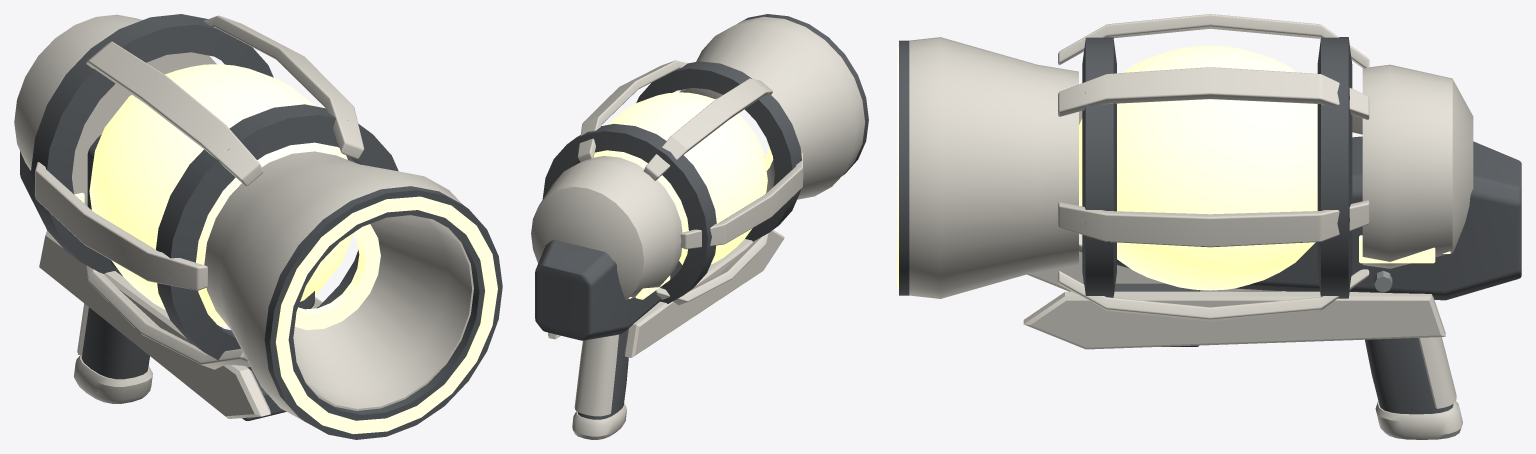
File: PulseLobber.fbx
3 renders of one model, left to right at view 1: azimuth 30°, elevation 25°; view 2: azimuth 150°, elevation 25°; view 3: azimuth 270°, elevation 25°, orthographic. The views are drawn at different scales.
Parts seen in each view (by area): view 1: Bell, OrbChamber, ChamberBand.001, ChamberBand, DarkMuzzle, BellEnergyLip, Cradle, RearBreech, ChamberRib.002, ChamberRib.003, ChamberRib.001, RecessedEmitter (+4 smaller); view 2: Bell, RearBreech, OrbChamber, Receiver, ChamberBand, ChamberBand.001, Cradle, ChamberRib.002, ChamberRib.003, GripPanel, ChamberRib.001, ChamberRib.004 (+3 smaller); view 3: Bell, OrbChamber, RearBreech, Cradle.001, Receiver, ChamberRib, ChamberRib.001, ChamberBand, ChamberBand.001, PalmGrip, ChamberRib.002, ChamberRib.005 (+6 smaller).
Part boxes in pixels (x1,y1,x2,y2): Bell: [204, 151, 473, 423]; OrbChamber: [89, 64, 351, 326]; ChamberBand.001: [156, 104, 398, 370]; ChamberBand: [31, 14, 273, 276]; DarkMuzzle: [264, 186, 502, 439]; BellEnergyLip: [275, 196, 497, 434]; Cradle: [39, 230, 270, 418]; RearBreech: [14, 14, 216, 205]; ChamberRib.002: [86, 41, 263, 185]; ChamberRib.003: [35, 162, 207, 290]; ChamberRib.001: [204, 15, 364, 158]; RecessedEmitter: [294, 224, 380, 329]; Bell: [679, 16, 864, 199]; RearBreech: [531, 156, 682, 299]; OrbChamber: [593, 92, 767, 264]; Receiver: [535, 240, 682, 340]; ChamberBand: [542, 124, 716, 303]; ChamberBand.001: [636, 61, 801, 241]; Cradle: [624, 230, 784, 357]; ChamberRib.002: [643, 78, 772, 180]; ChamberRib.003: [680, 152, 803, 249]; GripPanel: [574, 334, 618, 416]; ChamberRib.001: [578, 60, 687, 161]; ChamberRib.004: [656, 233, 768, 305]; Bell: [909, 37, 1078, 298]; OrbChamber: [1079, 45, 1317, 290]; RearBreech: [1362, 64, 1473, 268]; Cradle.001: [1023, 291, 1445, 349]; Receiver: [1117, 136, 1521, 300]; ChamberRib: [1058, 200, 1369, 247]; ChamberRib.001: [1058, 67, 1369, 119]; ChamberBand: [1317, 37, 1352, 298]; ChamberBand.001: [1082, 37, 1116, 297]; PalmGrip: [1365, 338, 1453, 414]; ChamberRib.002: [1058, 14, 1369, 68]; ChamberRib.005: [1058, 269, 1369, 321].
Bounding box in the file's own units: 0.4433 × 0.6179 × 0.9025.
